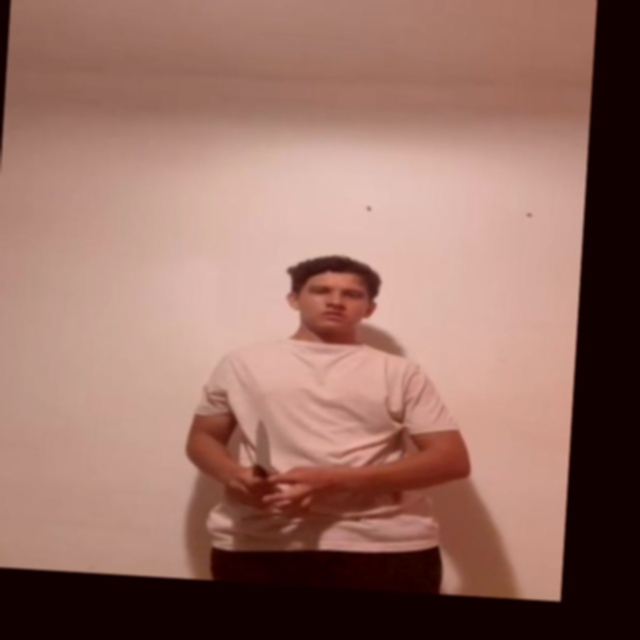Sharp-Object: (252, 423, 275, 473)
